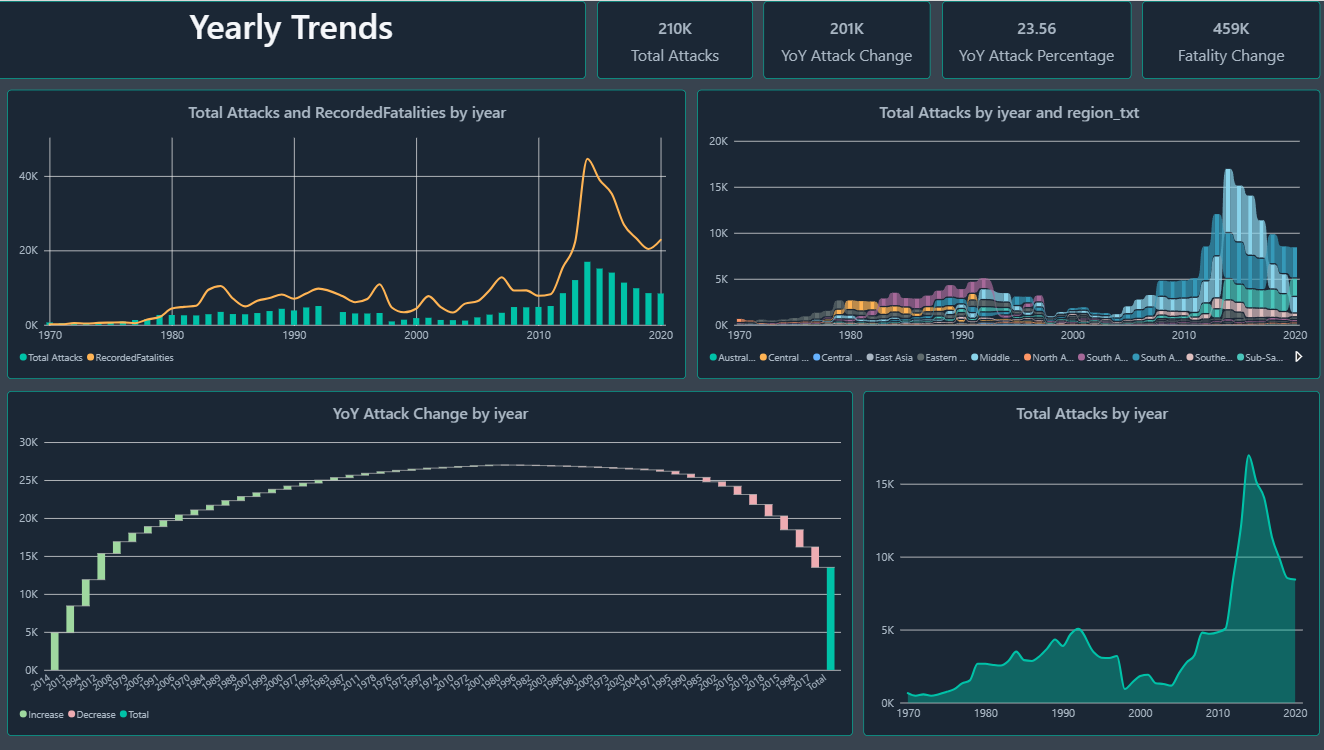

What the dashboard file says about the page in this screenshot:
{"tool":"powerbi","page":{"name":"Yearly Trends","canvas":[1920,1080],"ordinal":4},"visuals":[{"type":"card","fields":{"Values":["Measure.Total Attacks"]},"box":[864,0,224,112],"z":0},{"type":"card","fields":{"Values":["Measure.YoY Attack Change"]},"box":[1104,0,240,112],"z":1},{"type":"card","fields":{"Values":["Measure.YoY Attack Percentage"]},"box":[1360,0,272,112],"z":2},{"type":"card","fields":{"Values":["Measure.Fatality Change"]},"box":[1648,0,256,112],"z":3},{"type":"textbox","title":"Yearly Trends","box":[0,0,848,112],"z":4},{"type":"lineClusteredColumnComboChart","fields":{"Category":["GlobalTerrorism.iyear"],"Y":["Measure.Total Attacks"],"Y2":["Measure.RecordedFatalities"]},"box":[16,128,976,416],"z":5},{"type":"ribbonChart","fields":{"Category":["GlobalTerrorism.iyear"],"Series":["GlobalTerrorism.region_txt"],"Y":["Measure.Total Attacks"]},"box":[1008,128,896,416],"z":6},{"type":"areaChart","fields":{"Category":["GlobalTerrorism.iyear"],"Y":["Measure.Total Attacks"]},"box":[1248,560,656,496],"z":7},{"type":"waterfallChart","fields":{"Category":["GlobalTerrorism.iyear"],"Y":["Measure.YoY Attack Change"]},"box":[16,560,1216,496],"z":8}]}

Visuals, with their boxes in screenshot pixels (x1, y1, x2, y2), scaled from the page's 1920x1080 canvas onto the 1324x750 screenshot:
card - Measure.Total Attacks: (x1=596, y1=0, x2=750, y2=78)
card - Measure.YoY Attack Change: (x1=761, y1=0, x2=927, y2=78)
card - Measure.YoY Attack Percentage: (x1=938, y1=0, x2=1125, y2=78)
card - Measure.Fatality Change: (x1=1136, y1=0, x2=1313, y2=78)
"Yearly Trends" textbox: (x1=0, y1=0, x2=585, y2=78)
lineClusteredColumnComboChart - GlobalTerrorism.iyear x Measure.Total Attacks: (x1=11, y1=89, x2=684, y2=378)
ribbonChart - GlobalTerrorism.iyear x GlobalTerrorism.region_txt: (x1=695, y1=89, x2=1313, y2=378)
areaChart - GlobalTerrorism.iyear x Measure.Total Attacks: (x1=861, y1=389, x2=1313, y2=733)
waterfallChart - GlobalTerrorism.iyear x Measure.YoY Attack Change: (x1=11, y1=389, x2=850, y2=733)
